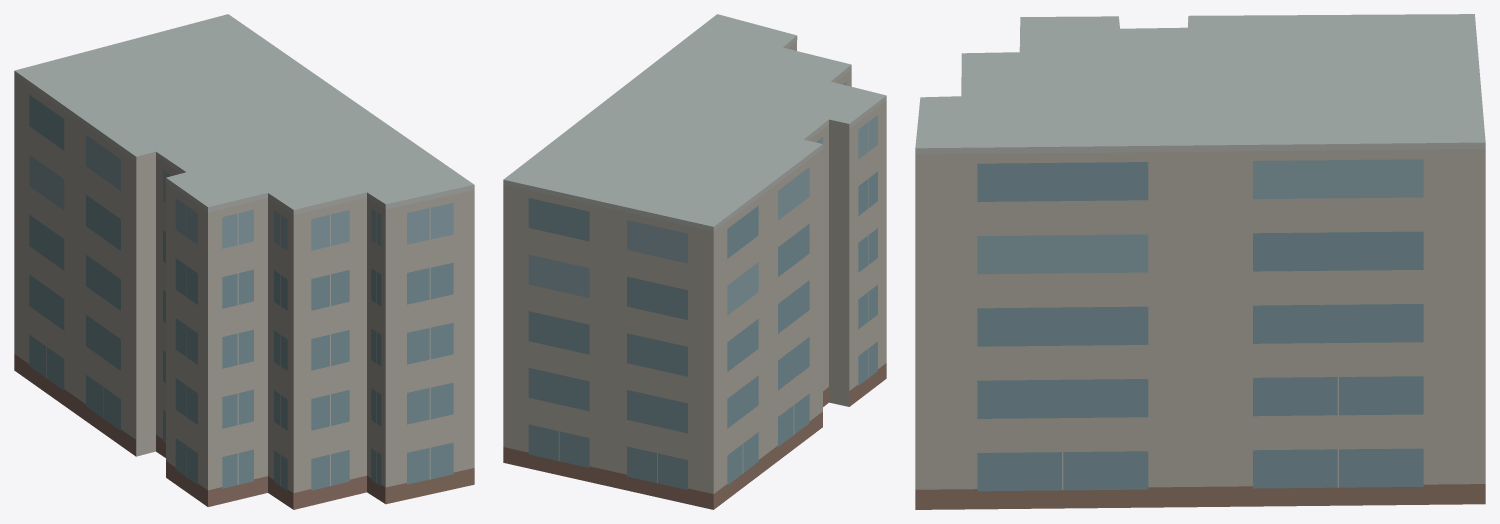
File: survey-upis-32920941.glb
3 renders of one model, left to right at view 1: azimuth 30°, elevation 25°; view 2: azimuth 150°, elevation 25°; view 3: azimuth 270°, elevation 25°, orthographic. The views are drawn at different scales.
Parts seen in each view (by area): view 1: survey-upis-32920941.tmp; view 2: survey-upis-32920941.tmp; view 3: survey-upis-32920941.tmp.
Part boxes in pixels (x1,y1,x2,y2): survey-upis-32920941.tmp: (14, 14, 474, 509); survey-upis-32920941.tmp: (503, 14, 886, 509); survey-upis-32920941.tmp: (915, 14, 1485, 509).
Size of the model in its own units: 11.39 by 14.3 by 20.45.
